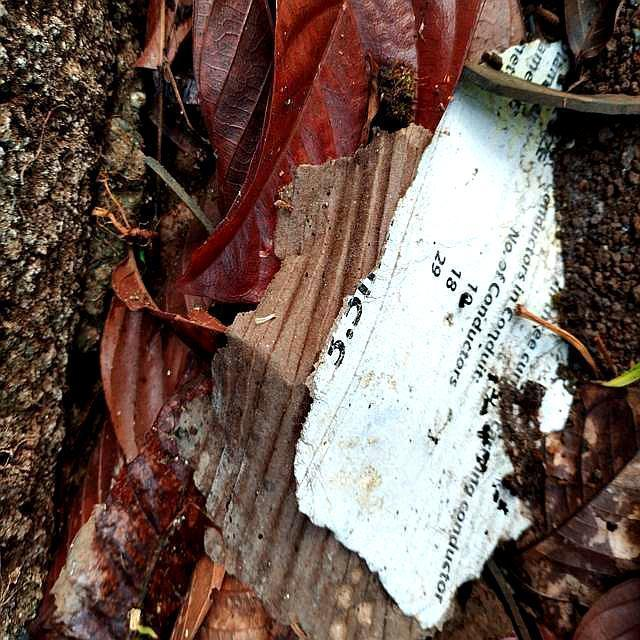Biodegradable: (242, 2, 640, 640)
